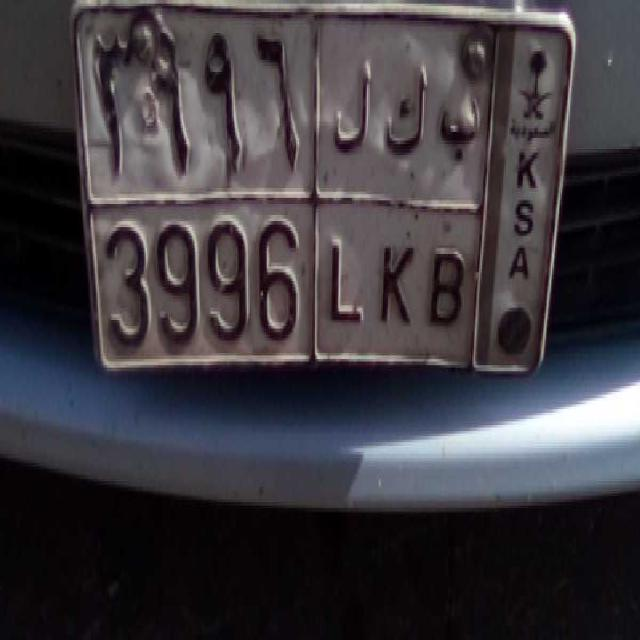license_plate: (92, 194, 478, 368)
